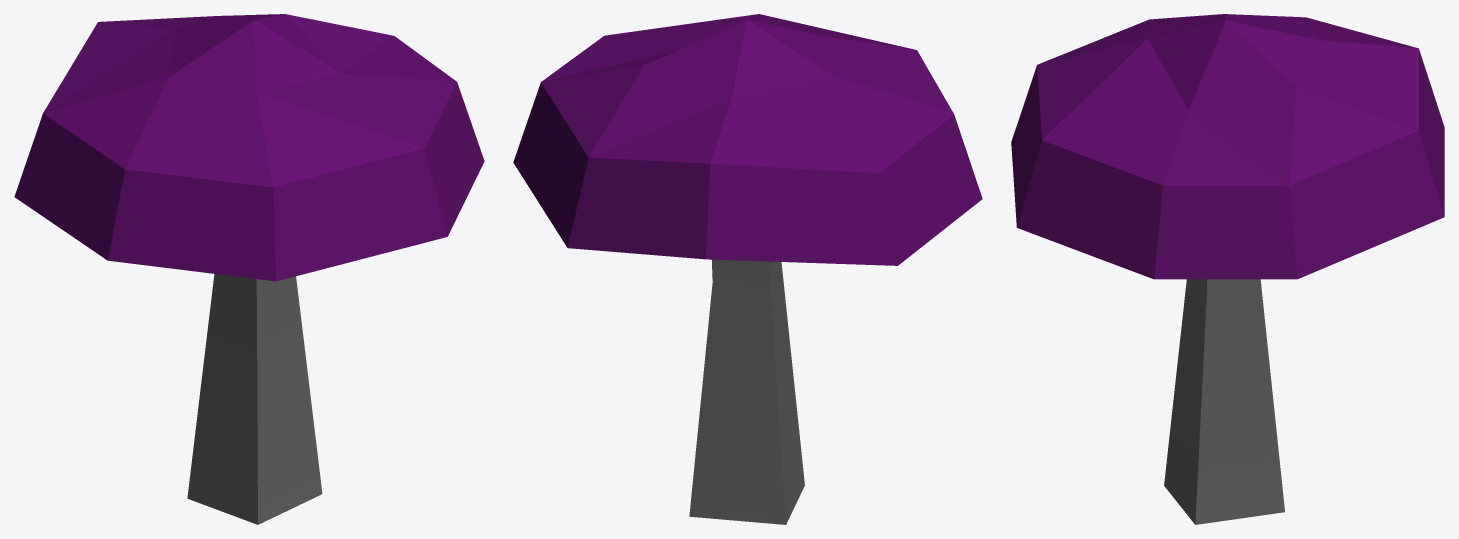
The model's file is Mushroom_Big_4.fbx.
3 renders of one model, left to right at view 1: azimuth 30°, elevation 25°; view 2: azimuth 150°, elevation 25°; view 3: azimuth 270°, elevation 25°, orthographic.
Parts seen in each view (by area): view 1: Mushroom_Big_4; view 2: Mushroom_Big_4; view 3: Mushroom_Big_4.
Boxes of the visible parts, <box> form: Mushroom_Big_4: <box>14,14,484,524</box>; Mushroom_Big_4: <box>513,14,982,524</box>; Mushroom_Big_4: <box>1011,14,1444,524</box>.
Bounding box in the file's own units: 63.61 × 74.3 × 60.98.
